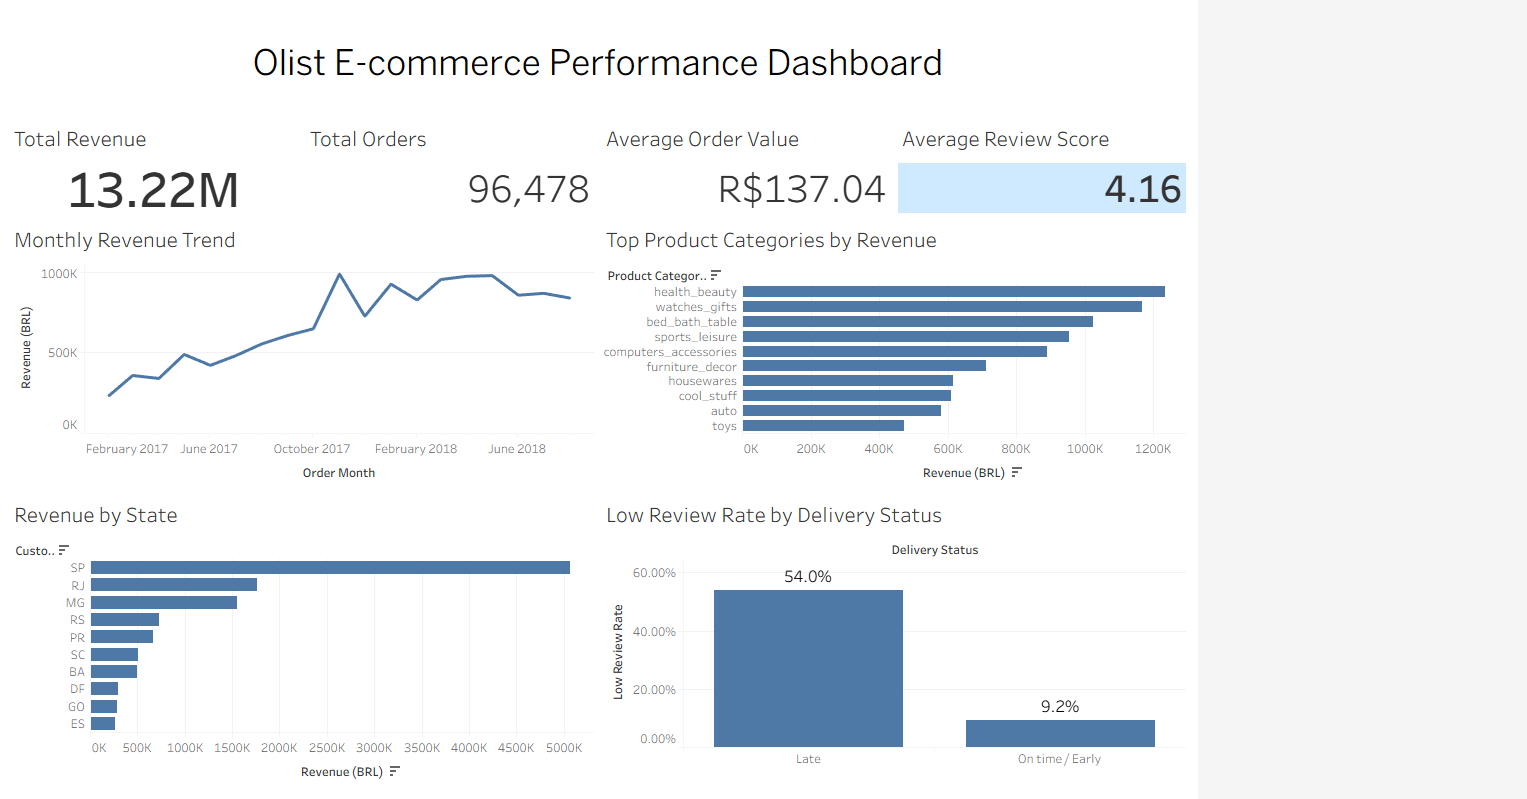

The page's visual inventory and layout, read from the dashboard file:
{"tool":"tableau","page":{"name":"Dashboard 1","canvas":[1200,800],"ordinal":0},"visuals":[{"type":"text","box":[8,8,1184,108.7]},{"type":"worksheet","title":"Total Revenue","mark":"Automatic","box":[8,117,296,101]},{"type":"worksheet","title":"Total Orders","mark":"Automatic","box":[304,117,296,101]},{"type":"worksheet","title":"Average Order Value","mark":"Automatic","box":[600,117,296,101]},{"type":"worksheet","title":"Average Review Score","mark":"Automatic","box":[896,117,296,101]},{"type":"worksheet","title":"Monthly Revenue Trend","mark":"Automatic","rows":["order_total"],"cols":["order_purchase_timestamp"],"box":[8,218,592,275]},{"type":"worksheet","title":"Top Product Categories by Revenue","mark":"Automatic","rows":["product_category_name_english"],"cols":["category_revenue"],"box":[600,218,592,275]},{"type":"worksheet","title":"Revenue by State","mark":"Automatic","rows":["customer_state"],"cols":["order_total"],"box":[8,493,592,299]},{"type":"worksheet","title":"Low Review Rate by Delivery Status","mark":"Automatic","rows":["low_review"],"cols":["Calculation_1101754423074817"],"box":[600,493,592,299]}]}

Visuals, with their boxes on the page's 1200x800 design canvas (x1, y1, x2, y2). These are canvas units, not pixel positions in the 1527x799 screenshot, which may show the page scaled, cropped or inside an application window:
text: crop(8, 8, 1192, 117)
"Total Revenue" worksheet: crop(8, 117, 304, 218)
"Total Orders" worksheet: crop(304, 117, 600, 218)
"Average Order Value" worksheet: crop(600, 117, 896, 218)
"Average Review Score" worksheet: crop(896, 117, 1192, 218)
"Monthly Revenue Trend" worksheet: crop(8, 218, 600, 493)
"Top Product Categories by Revenue" worksheet: crop(600, 218, 1192, 493)
"Revenue by State" worksheet: crop(8, 493, 600, 792)
"Low Review Rate by Delivery Status" worksheet: crop(600, 493, 1192, 792)
